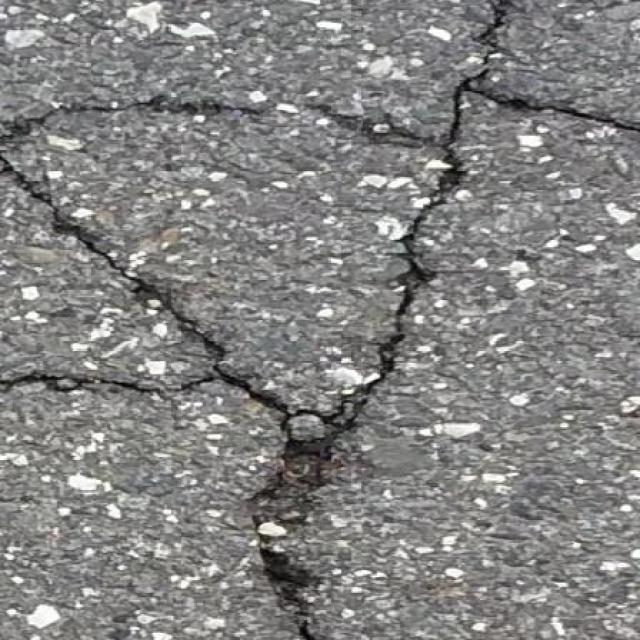Crack: (262, 0, 612, 640), (0, 105, 252, 397)
